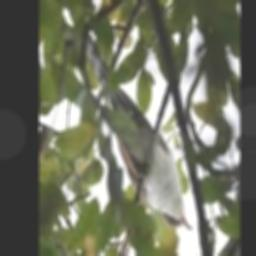Cuckoo: (84, 36, 192, 232)
